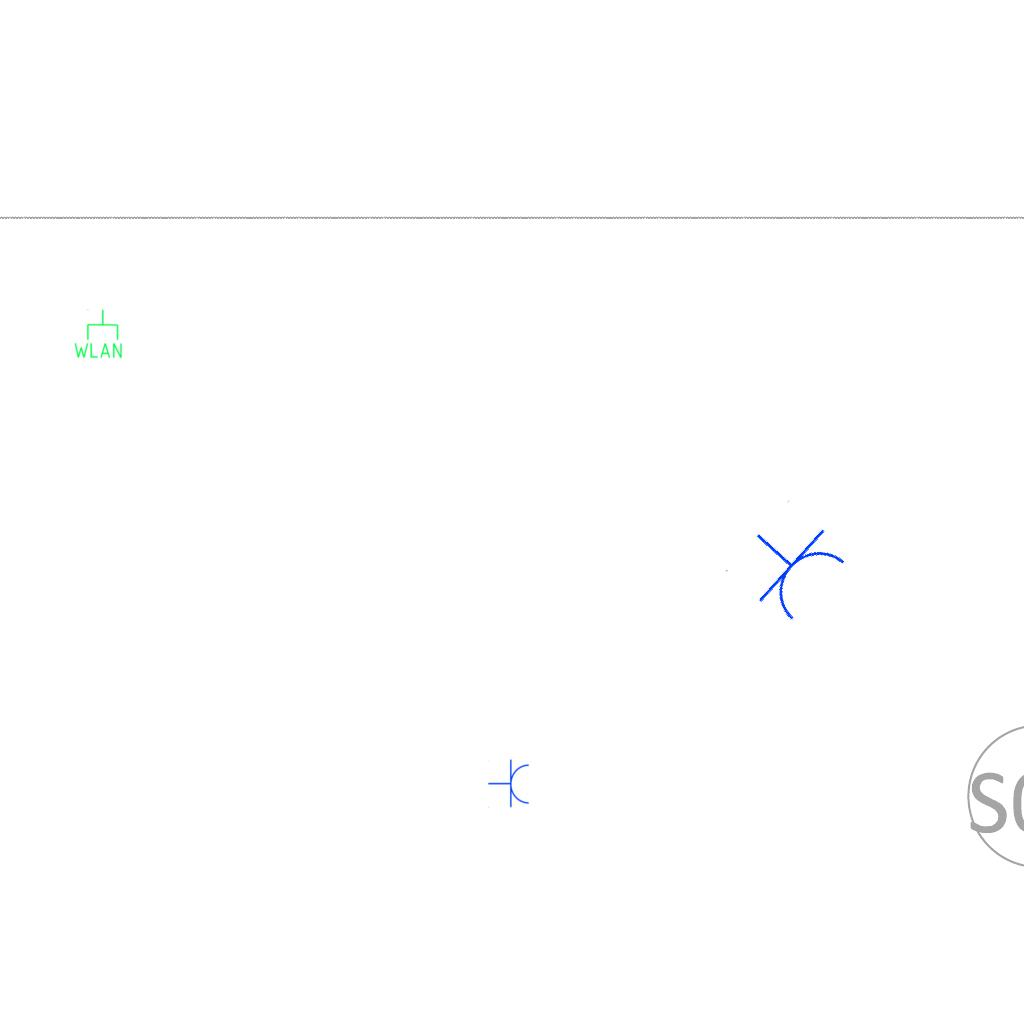Schukosteckdose_einfach: (723, 498, 855, 631), (488, 759, 531, 809)
WLAN: (72, 308, 124, 360)
